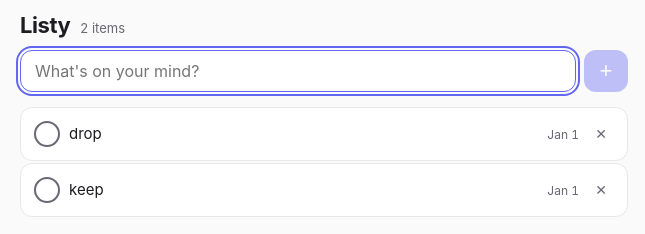
it: App › deletes an item and updates the count
Expected: the text "drop" is shown, [69, 124, 102, 143]
Step 1. Click the button with class "delete" in the row of "drop" → (601, 134), box [579, 112, 623, 156]
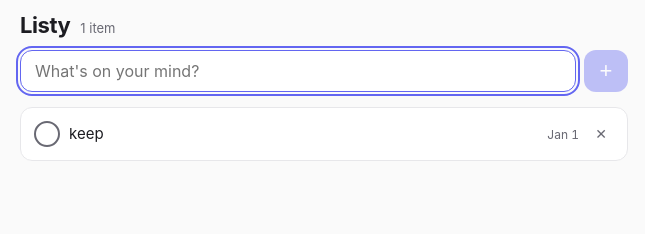
Result: the text "1 item" is shown at [80, 20, 116, 36]
Result: the text "drop" is gone
